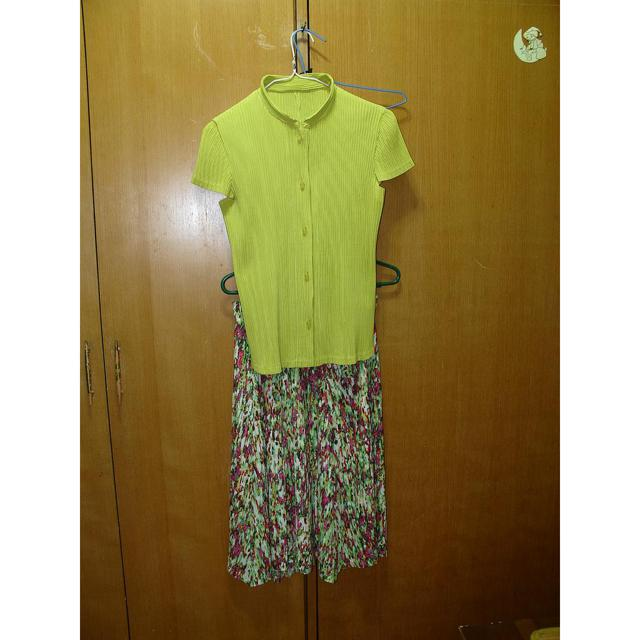Skirts: (226, 322, 388, 587)
Tops: (194, 69, 416, 369)
